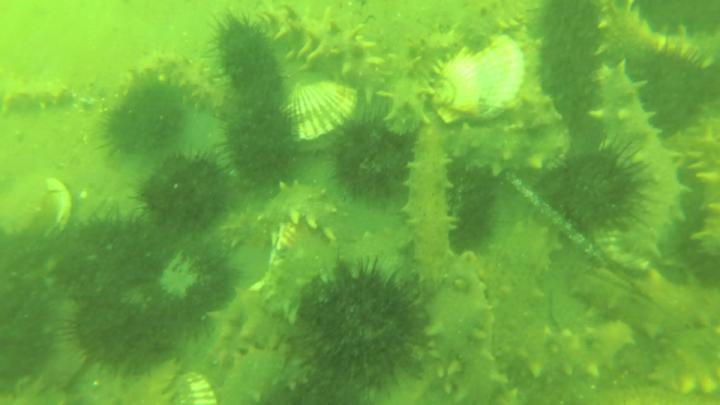echinus: (293, 260, 431, 394), (52, 209, 164, 302), (66, 294, 186, 373), (447, 122, 576, 185), (556, 143, 645, 234), (138, 151, 234, 234), (96, 80, 191, 160), (331, 116, 414, 207), (140, 242, 238, 319), (208, 13, 285, 107), (222, 104, 302, 190), (1, 281, 63, 390), (511, 25, 567, 134), (641, 48, 709, 136), (447, 162, 501, 250)
holothurian: (485, 213, 634, 382), (588, 61, 694, 275), (422, 253, 528, 405), (253, 3, 393, 107), (568, 262, 720, 342), (217, 176, 347, 253), (402, 125, 459, 288), (595, 1, 720, 73), (203, 287, 300, 375), (118, 48, 226, 114), (213, 334, 311, 405), (431, 2, 541, 58), (380, 41, 438, 137), (646, 321, 720, 396), (685, 130, 720, 264), (1, 76, 76, 116)
scallop: (436, 29, 529, 122), (292, 79, 359, 155), (1, 173, 75, 240), (169, 368, 221, 405)
